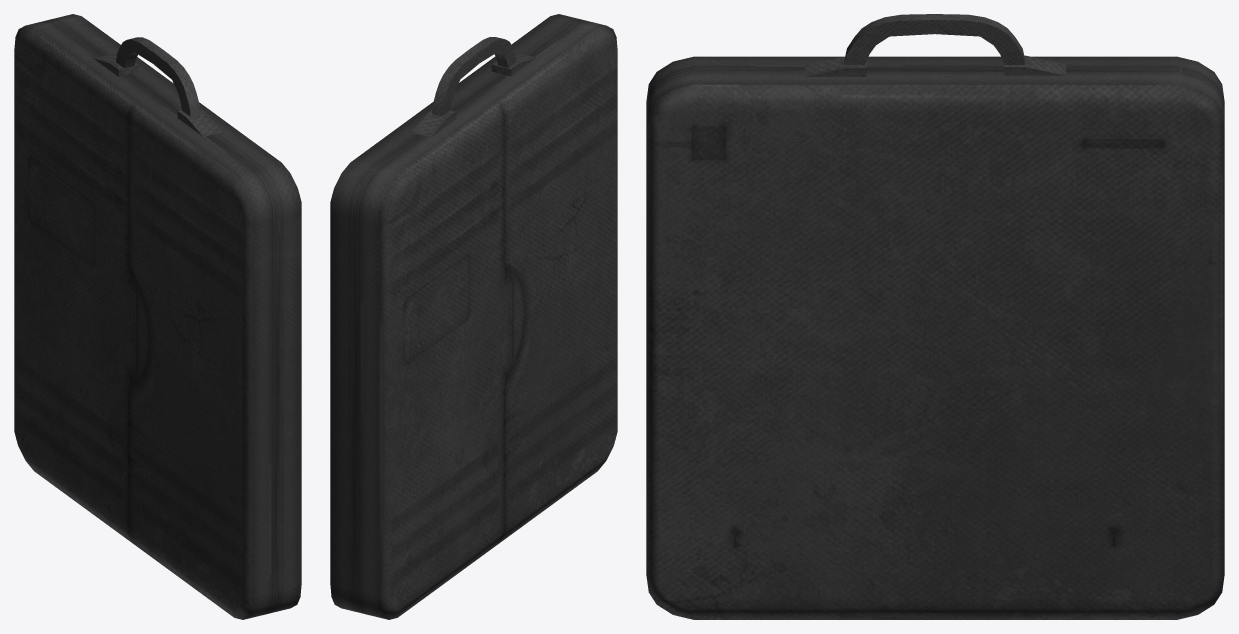
The model's file is ms_toolbox_plastic.fbx.
3 renders of one model, left to right at view 1: azimuth 30°, elevation 25°; view 2: azimuth 150°, elevation 25°; view 3: azimuth 270°, elevation 25°, orthographic. The views are drawn at different scales.
Visible parts, largest first — view 1: ms_toolbox_plastic; view 2: ms_toolbox_plastic; view 3: ms_toolbox_plastic.
Part boxes in pixels (x1,y1,x2,y2): ms_toolbox_plastic: (14, 14, 301, 619); ms_toolbox_plastic: (330, 14, 617, 619); ms_toolbox_plastic: (646, 14, 1224, 619).
Bounding box in the file's own units: 5.57 × 43.81 × 38.96.
